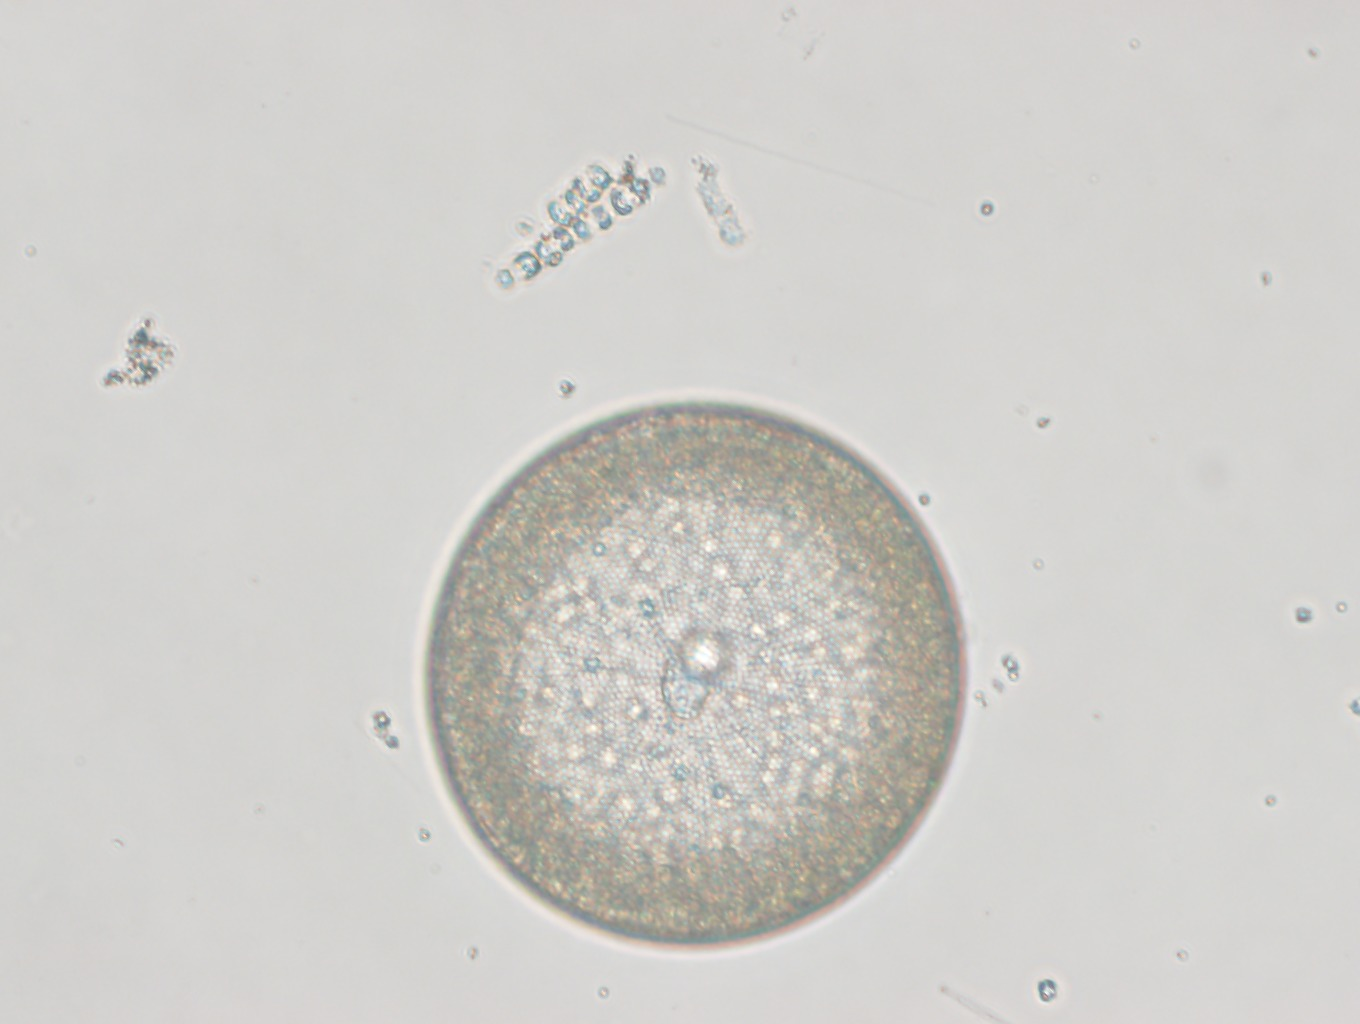coscinodiscus: (424, 394, 968, 947)
